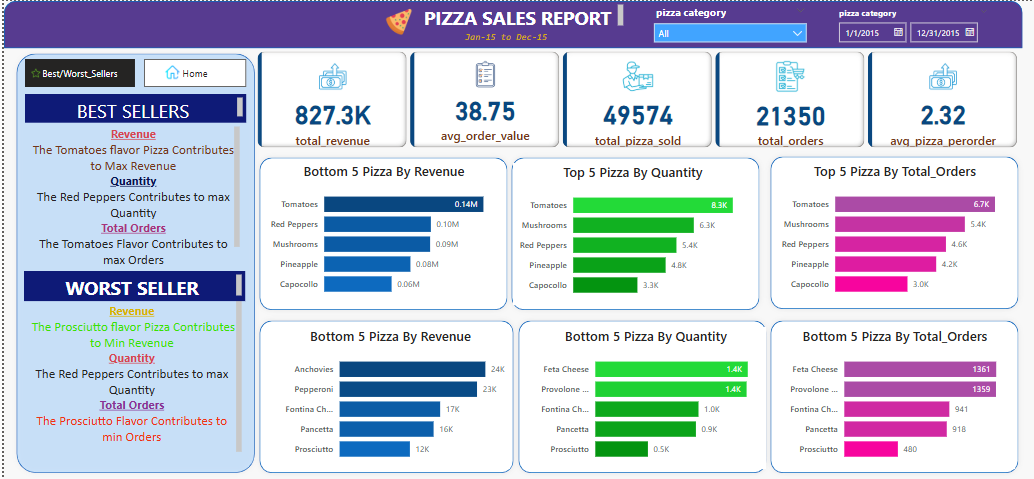

Layout of this report page (visuals, bound fields, positions):
{"tool":"powerbi","page":{"name":"Best/Worst_Sellers","canvas":[1500,820],"ordinal":1},"visuals":[{"type":"cardVisual","fields":{"Data":["pizzadb pizza_sales.total_revenue","pizzadb pizza_sales.avg_order_value","pizzadb pizza_sales.total_pizza_sold","pizzadb pizza_sales.total_orders","pizzadb pizza_sales.avg_pizza_perorder"]},"box":[357.5,67.5,1097.5,147.5],"z":0},{"type":"shape","box":[10,67.5,356.2,615],"z":1000},{"type":"shape","box":[0,0,1455,67.5],"z":2000},{"type":"textbox","box":[585,0,303.8,42.5],"z":3000},{"type":"textbox","box":[647.5,37.5,140,30],"z":4000},{"type":"textbox","box":[30,132.5,316.2,41.2],"z":5000},{"type":"image","box":[527.5,5,73.8,47.5],"z":6000},{"type":"textbox","box":[35,173.8,306.2,211.2],"z":7000},{"type":"textbox","box":[28.8,410,316.2,257.5],"z":8000},{"type":"textbox","box":[28.8,385,316.2,42.5],"z":9000},{"type":"slicer","fields":{"Values":["pizzadb pizza_sales.pizza_category"]},"box":[918.8,0,237.5,67.5],"z":10000},{"type":"slicer","fields":{"Values":["pizzadb pizza_sales.order_date"]},"box":[1180,2.5,237.5,65],"z":11000},{"type":"shape","box":[357.5,215,370,233.8],"z":12000},{"type":"shape","box":[717.5,215,370,233.8],"z":13000},{"type":"shape","box":[1087.5,213.8,370,233.8],"z":14000},{"type":"shape","box":[357.5,448.8,378.8,233.8],"z":15000},{"type":"shape","box":[727.5,448.8,370,233.8],"z":16000},{"type":"shape","box":[1087.5,448.8,370,233.8],"z":17000},{"type":"barChart","title":"Bottom 5 Pizza By Revenue","fields":{"Category":["pizzadb pizza_sales.pizza_name"],"Y":["pizzadb pizza_sales.total_revenue"]},"box":[381.2,465,341.2,202.5],"z":18000},{"type":"barChart","title":"Top 5 Pizza By Quantity","fields":{"Category":["pizzadb pizza_sales.pizza_name"],"Y":["pizzadb pizza_sales.total_pizza_sold"]},"box":[727.5,231.2,342.5,202.5],"z":19000},{"type":"barChart","title":"Bottom 5 Pizza By Revenue","fields":{"Category":["pizzadb pizza_sales.pizza_name"],"Y":["pizzadb pizza_sales.total_revenue"]},"box":[371.2,230,342.5,202.5],"z":20000},{"type":"barChart","title":"Bottom 5 Pizza By Quantity","fields":{"Category":["pizzadb pizza_sales.pizza_name"],"Y":["pizzadb pizza_sales.total_pizza_sold"]},"box":[745,465,342.5,202.5],"z":21000},{"type":"barChart","title":"Top 5 Pizza By Total_Orders","fields":{"Category":["pizzadb pizza_sales.pizza_name"],"Y":["pizzadb pizza_sales.total_orders"]},"box":[1101.2,230,342.5,202.5],"z":22000},{"type":"barChart","title":"Bottom 5 Pizza By Total_Orders","fields":{"Category":["pizzadb pizza_sales.pizza_name"],"Y":["pizzadb pizza_sales.total_orders"]},"box":[1101.2,465,342.5,202.5],"z":23000},{"type":"pageNavigator","box":[30,82.5,157.5,40],"z":23001},{"type":"pageNavigator","box":[200,82.5,146.2,40],"z":23002},{"type":"image","box":[225,86.2,30,31.2],"z":23003},{"type":"image","box":[30,91.2,31.2,22.5],"z":23004}]}

Visuals, with their boxes on the page's 1500x820 design canvas (x1, y1, x2, y2). These are canvas units, not pixel positions in the 1034x479 screenshot, which may show the page scaled, cropped or inside an application window:
cardVisual - pizzadb pizza_sales.total_revenue x pizzadb pizza_sales.avg_order_value: detection(358, 68, 1455, 215)
shape: detection(10, 68, 366, 682)
shape: detection(0, 0, 1455, 68)
textbox: detection(585, 0, 889, 42)
textbox: detection(648, 38, 788, 68)
textbox: detection(30, 132, 346, 174)
image: detection(528, 5, 601, 52)
textbox: detection(35, 174, 341, 385)
textbox: detection(29, 410, 345, 668)
textbox: detection(29, 385, 345, 428)
slicer - pizzadb pizza_sales.pizza_category: detection(919, 0, 1156, 68)
slicer - pizzadb pizza_sales.order_date: detection(1180, 2, 1418, 68)
shape: detection(358, 215, 728, 449)
shape: detection(718, 215, 1088, 449)
shape: detection(1088, 214, 1458, 448)
shape: detection(358, 449, 736, 683)
shape: detection(728, 449, 1098, 683)
shape: detection(1088, 449, 1458, 683)
"Bottom 5 Pizza By Revenue" barChart: detection(381, 465, 722, 668)
"Top 5 Pizza By Quantity" barChart: detection(728, 231, 1070, 434)
"Bottom 5 Pizza By Revenue" barChart: detection(371, 230, 714, 432)
"Bottom 5 Pizza By Quantity" barChart: detection(745, 465, 1088, 668)
"Top 5 Pizza By Total_Orders" barChart: detection(1101, 230, 1444, 432)
"Bottom 5 Pizza By Total_Orders" barChart: detection(1101, 465, 1444, 668)
pageNavigator: detection(30, 82, 188, 122)
pageNavigator: detection(200, 82, 346, 122)
image: detection(225, 86, 255, 117)
image: detection(30, 91, 61, 114)
